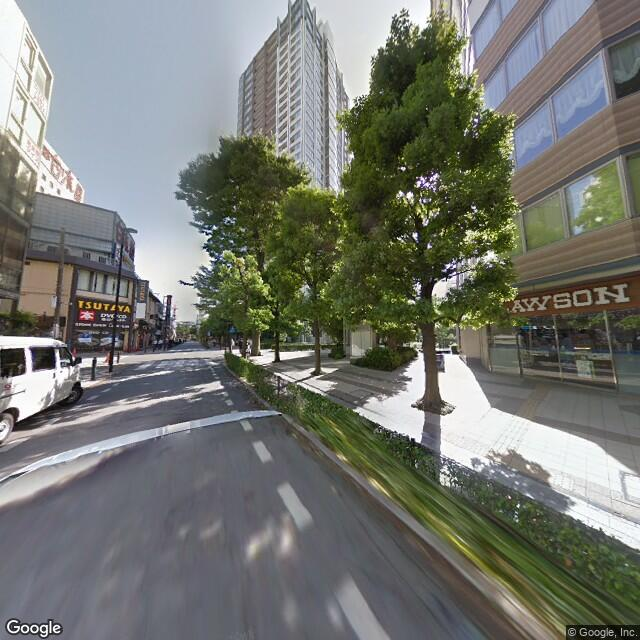lawson: (497, 271, 638, 319)
